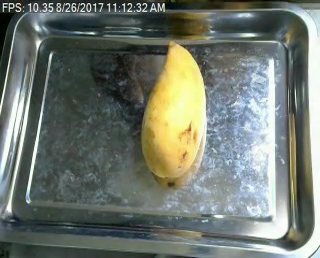Mango: (139, 39, 214, 181)
